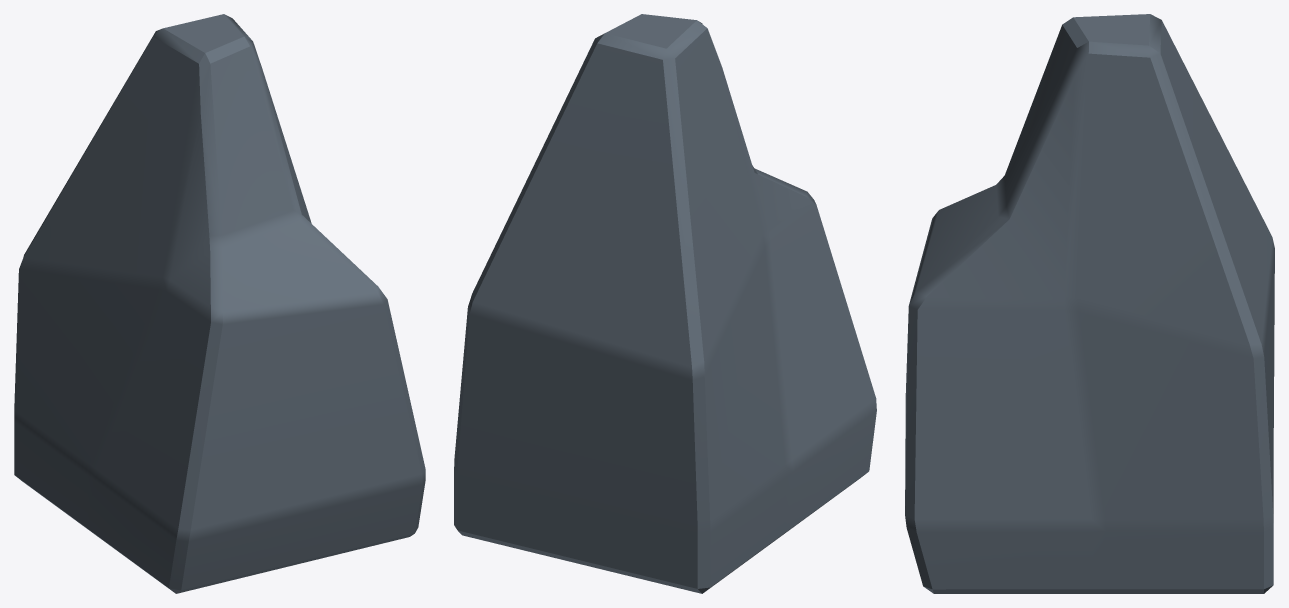
Rendered from Rock_5.fbx.
3 views of the same model, side by side, from view 1: azimuth 30°, elevation 25°; view 2: azimuth 150°, elevation 25°; view 3: azimuth 270°, elevation 25° (orthographic). The views are drawn at different scales.
Parts seen in each view (by area): view 1: rock_6; view 2: rock_6; view 3: rock_6.
Part boxes in pixels (x1=…): rock_6: x1=14, y1=14, x2=425, y2=593; rock_6: x1=454, y1=14, x2=876, y2=593; rock_6: x1=905, y1=14, x2=1274, y2=593.
Size of the model in its own units: 1.31 by 2.36 by 1.57.
